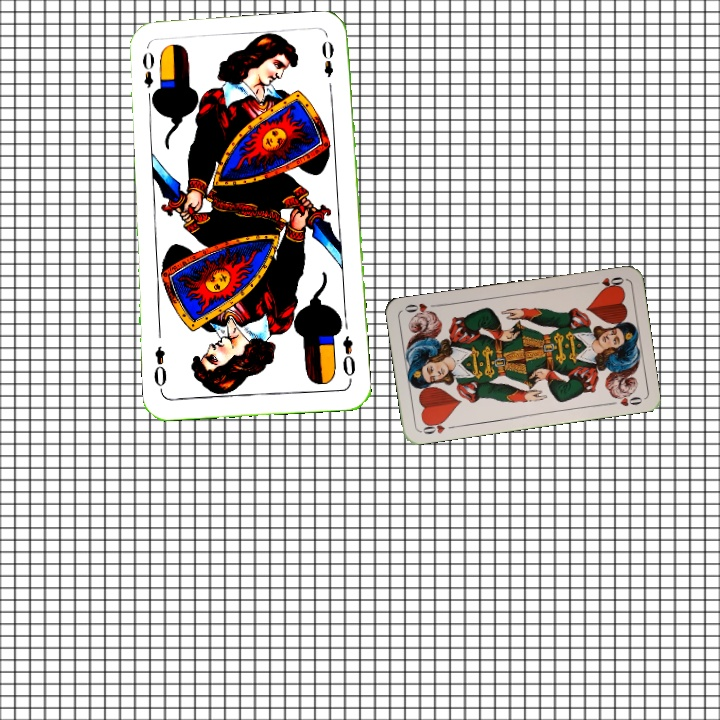EO: (138, 48, 159, 105), (339, 332, 358, 384)
HO: (417, 416, 458, 437), (587, 273, 626, 291)
